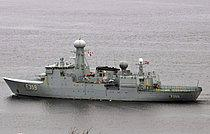MIL_Ship: (2, 37, 203, 104)
